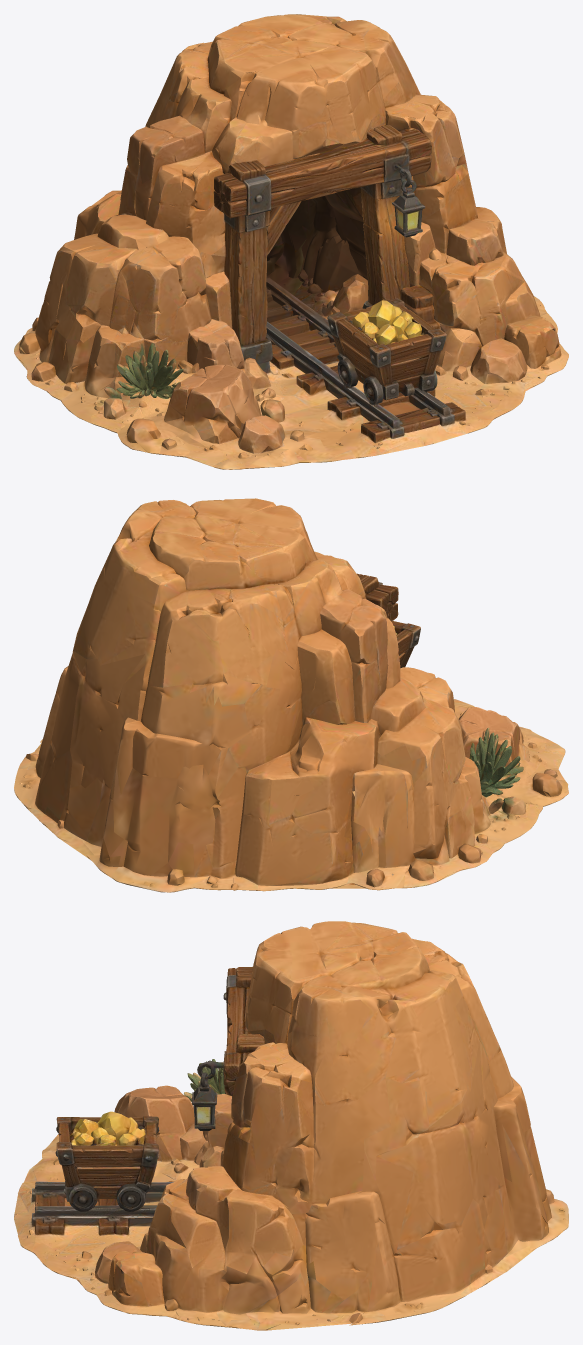
File: goldmine.glb
The picture shows the model from 3 angles, top to bottom: view 1: azimuth 30°, elevation 25°; view 2: azimuth 150°, elevation 25°; view 3: azimuth 270°, elevation 25°; orthographic projection.
Parts seen in each view (by area): view 1: goldmine; view 2: goldmine; view 3: goldmine.
Part boxes in pixels (x1,y1,x2,y2): goldmine: (14,14,568,469); goldmine: (14,498,568,892); goldmine: (14,921,568,1330).
Size of the model in its own units: 1.87 by 1.04 by 1.9.
Materials: 1 (1 with a texture image).
